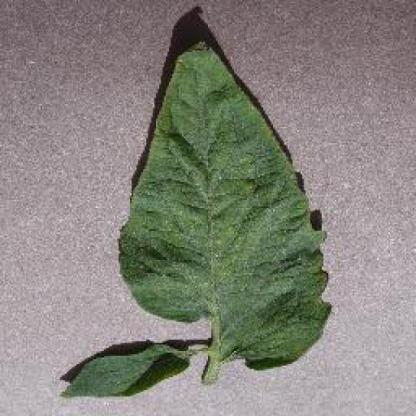Tomato_Spider_Mites: (61, 41, 330, 397)
